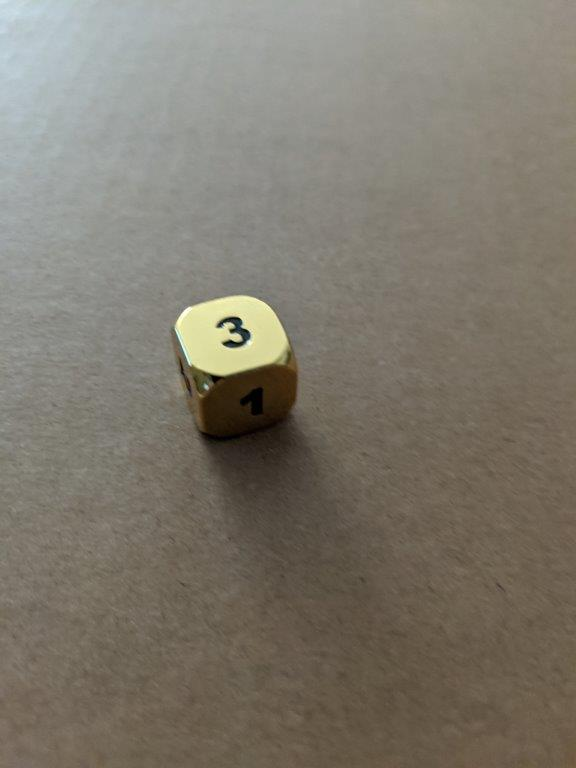d6-3: (171, 293, 299, 440)
